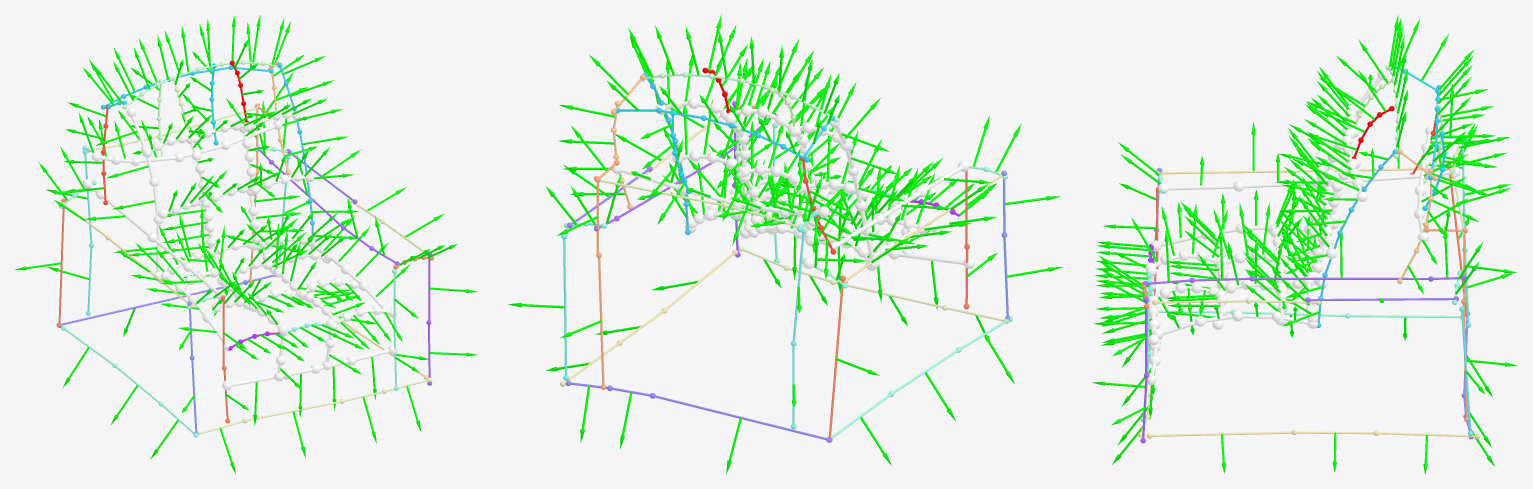
File: author2_sofa.gltf
3 views of the same model, side by side, from view 1: azimuth 30°, elevation 25°; view 2: azimuth 150°, elevation 25°; view 3: azimuth 270°, elevation 25° (orthographic). The views are drawn at different scales.
Bounding box in the file's own units: 0.7176 × 0.7522 × 0.774.
